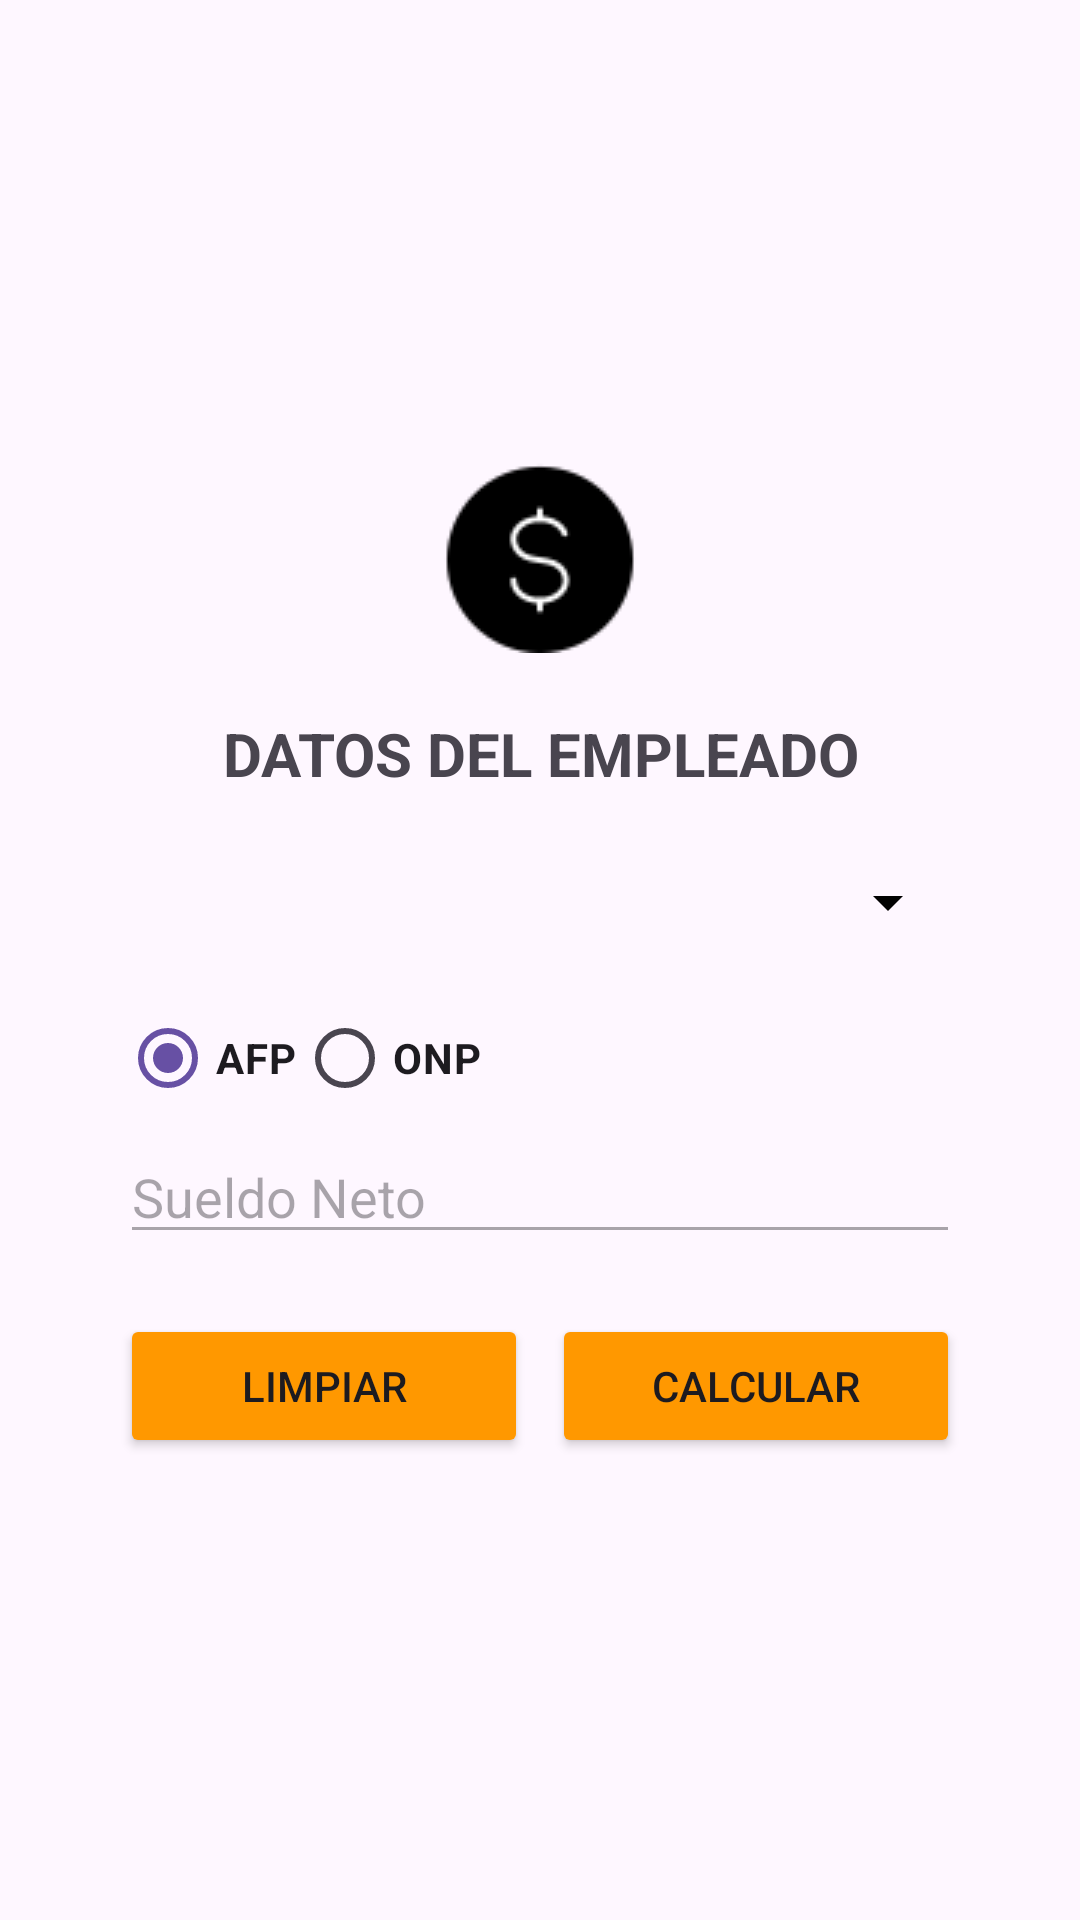

Named icons in this screenshot (1080px×1920px) and their centers, [x,y]:
dollar: [540,559]
